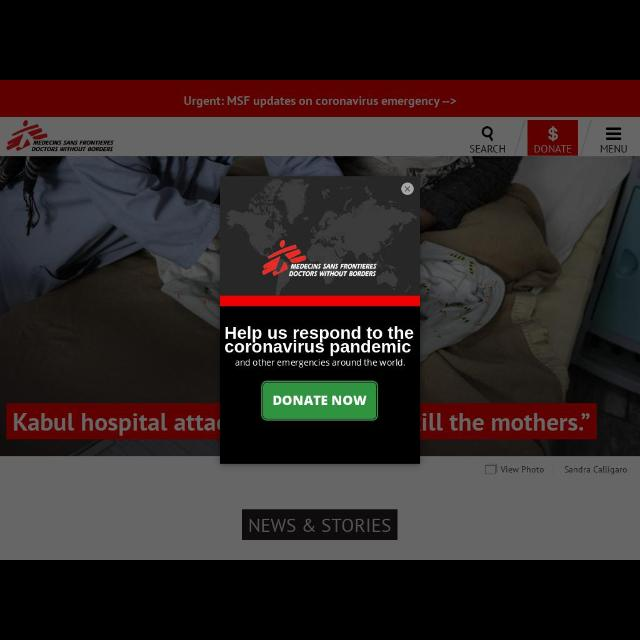backgroundimage: (1, 157, 639, 456)
button: (528, 121, 578, 155), (401, 183, 413, 195)
icon: (482, 126, 494, 142), (606, 128, 622, 140), (548, 126, 558, 142), (485, 464, 497, 474)
image: (221, 177, 419, 295), (7, 120, 114, 152)
text: (224, 327, 413, 358), (184, 96, 456, 108), (249, 518, 391, 532), (236, 358, 404, 368), (274, 396, 366, 404), (566, 466, 626, 474), (501, 466, 544, 474), (534, 145, 572, 153), (470, 145, 506, 153), (600, 145, 628, 153)
textbutton: (260, 381, 378, 421), (242, 510, 398, 540)
toolbar: (2, 118, 636, 156)
